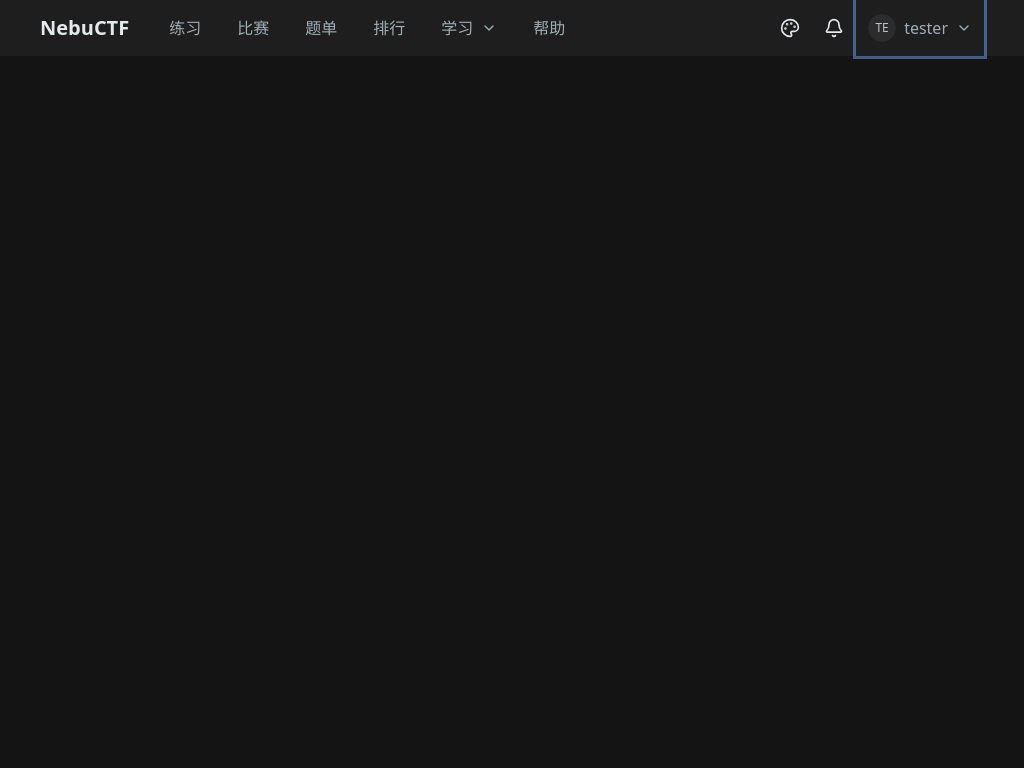
Test: menus open on activation and themes persist, sync and follow the system
The width and height of the screenshot is (1024, 768).
Earlier steps of the test are not shown.
Later steps or results of the test are not shown.
Click the button named "主题设置" at (790, 28), box left=768, top=0, right=812, bottom=56
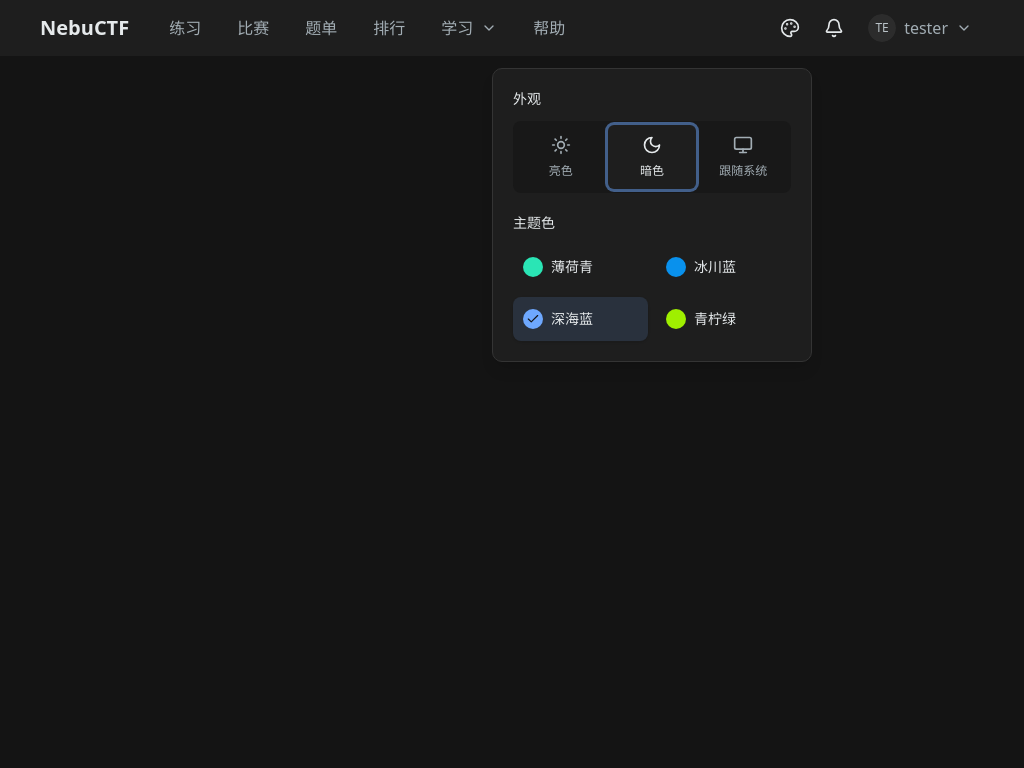
Click the radio button labelled "亮色" at (561, 157), box left=517, top=125, right=604, bottom=189
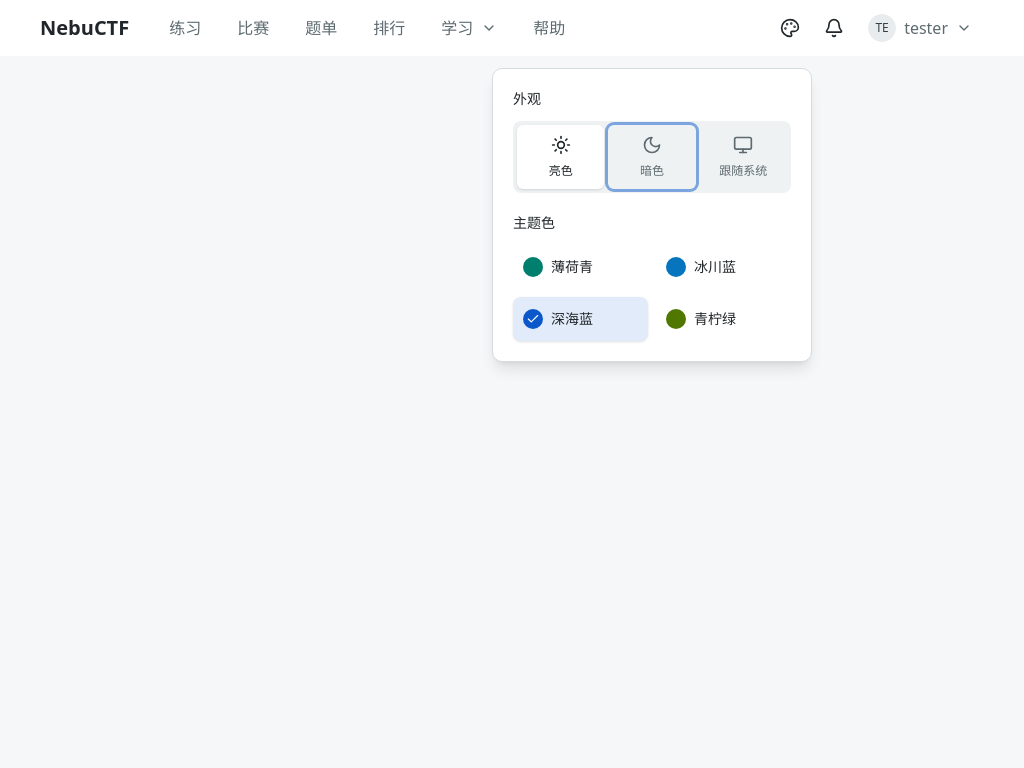
Result: the dialog is shown at left=492, top=68, right=812, bottom=362
Click the radio button labelled "冰川蓝" at (724, 267), box left=656, top=245, right=791, bottom=289
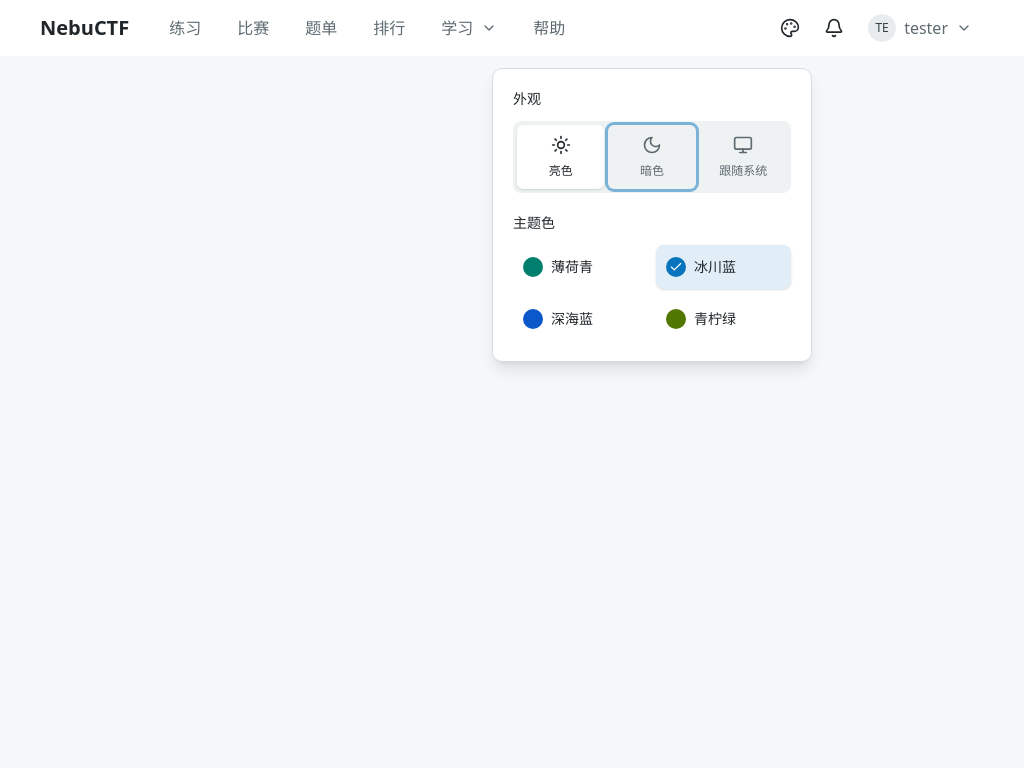
Result: the dialog is shown at left=492, top=68, right=812, bottom=362
Click the radio button labelled "冰川蓝" at (724, 267), box left=656, top=245, right=791, bottom=289
Result: the dialog is shown at left=492, top=68, right=812, bottom=362
Click the radio button labelled "暗色" at (652, 157), box left=608, top=125, right=696, bottom=189
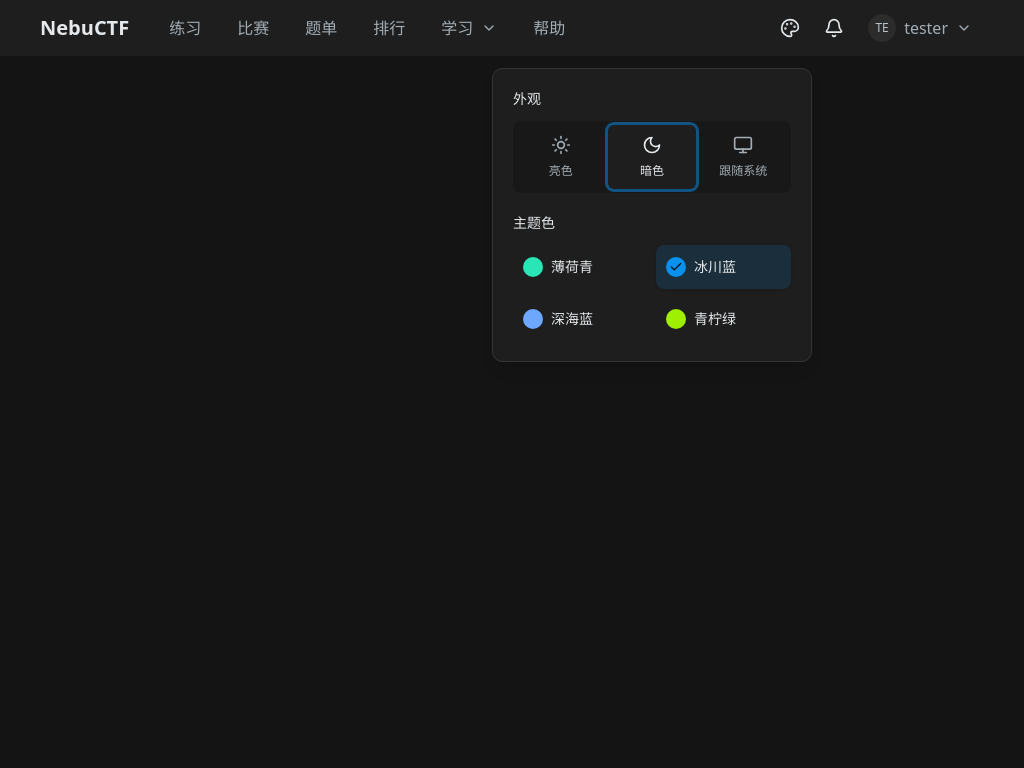
Result: the dialog is shown at left=492, top=68, right=812, bottom=362
Click the radio button labelled "跟随系统" at (743, 157), box left=700, top=125, right=787, bottom=189
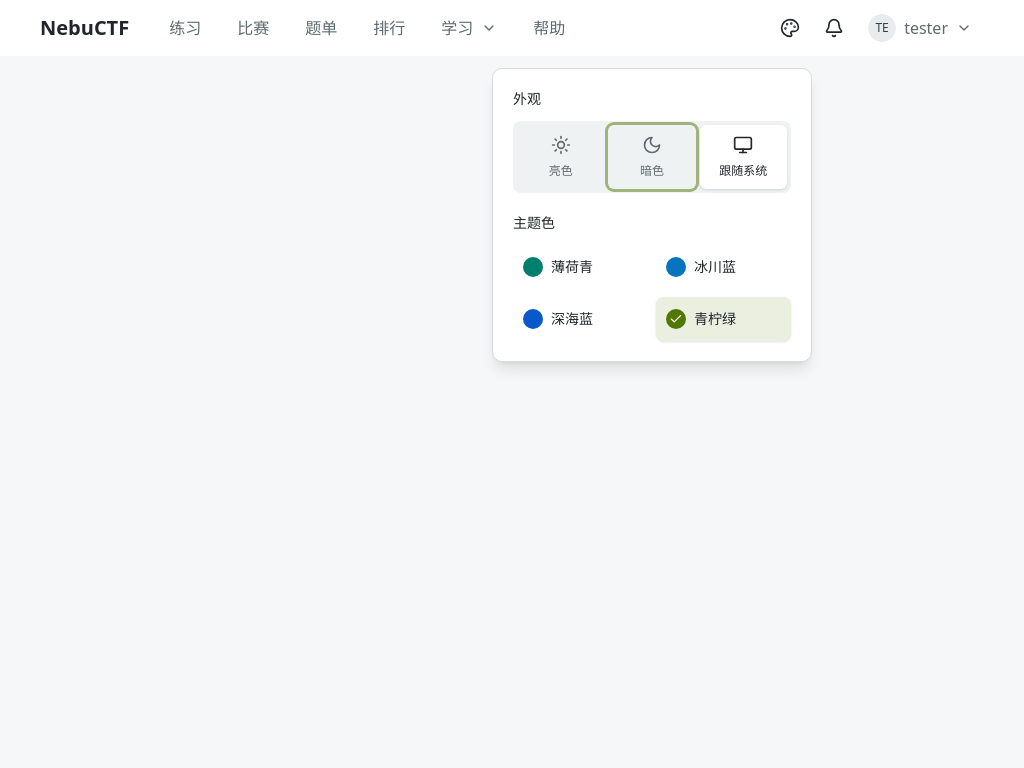
Result: the dialog is shown at left=492, top=68, right=812, bottom=362
Click the radio button labelled "薄荷青" at (580, 267), box left=513, top=245, right=648, bottom=289
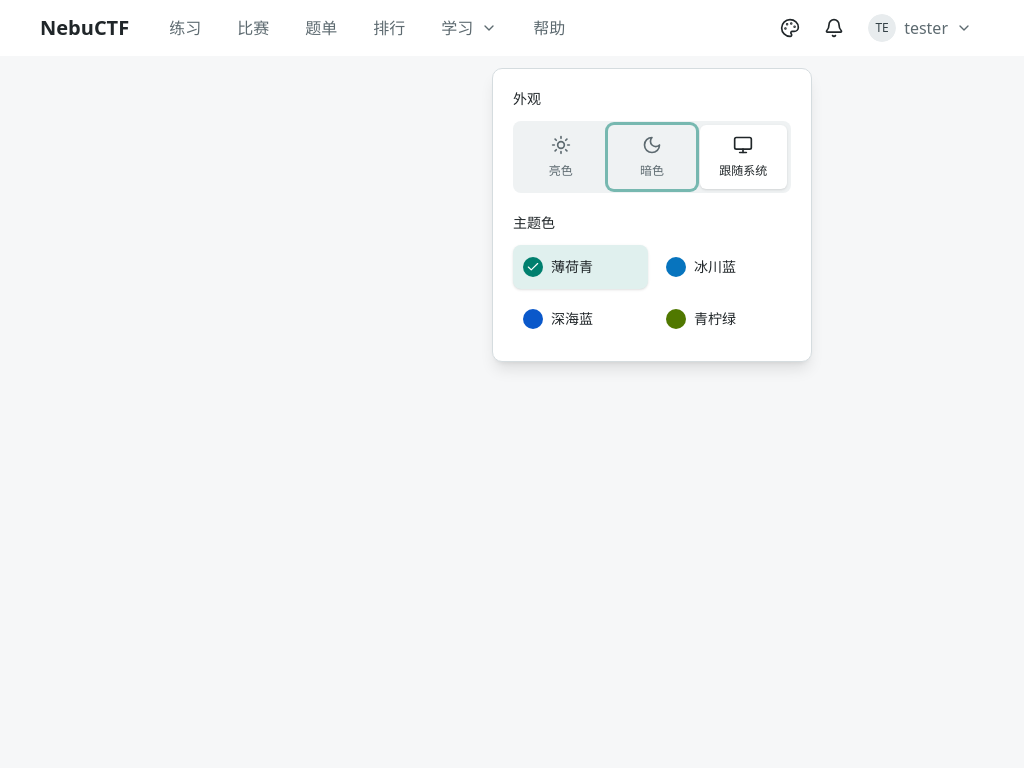
Result: the dialog is shown at left=492, top=68, right=812, bottom=362
